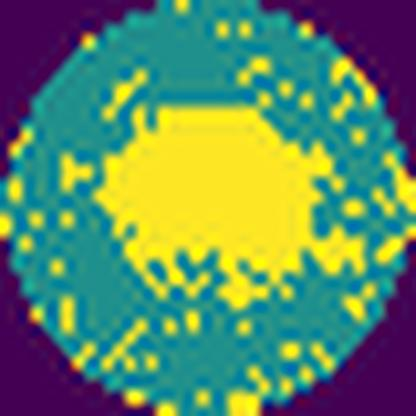Center: (96, 106, 365, 308)
